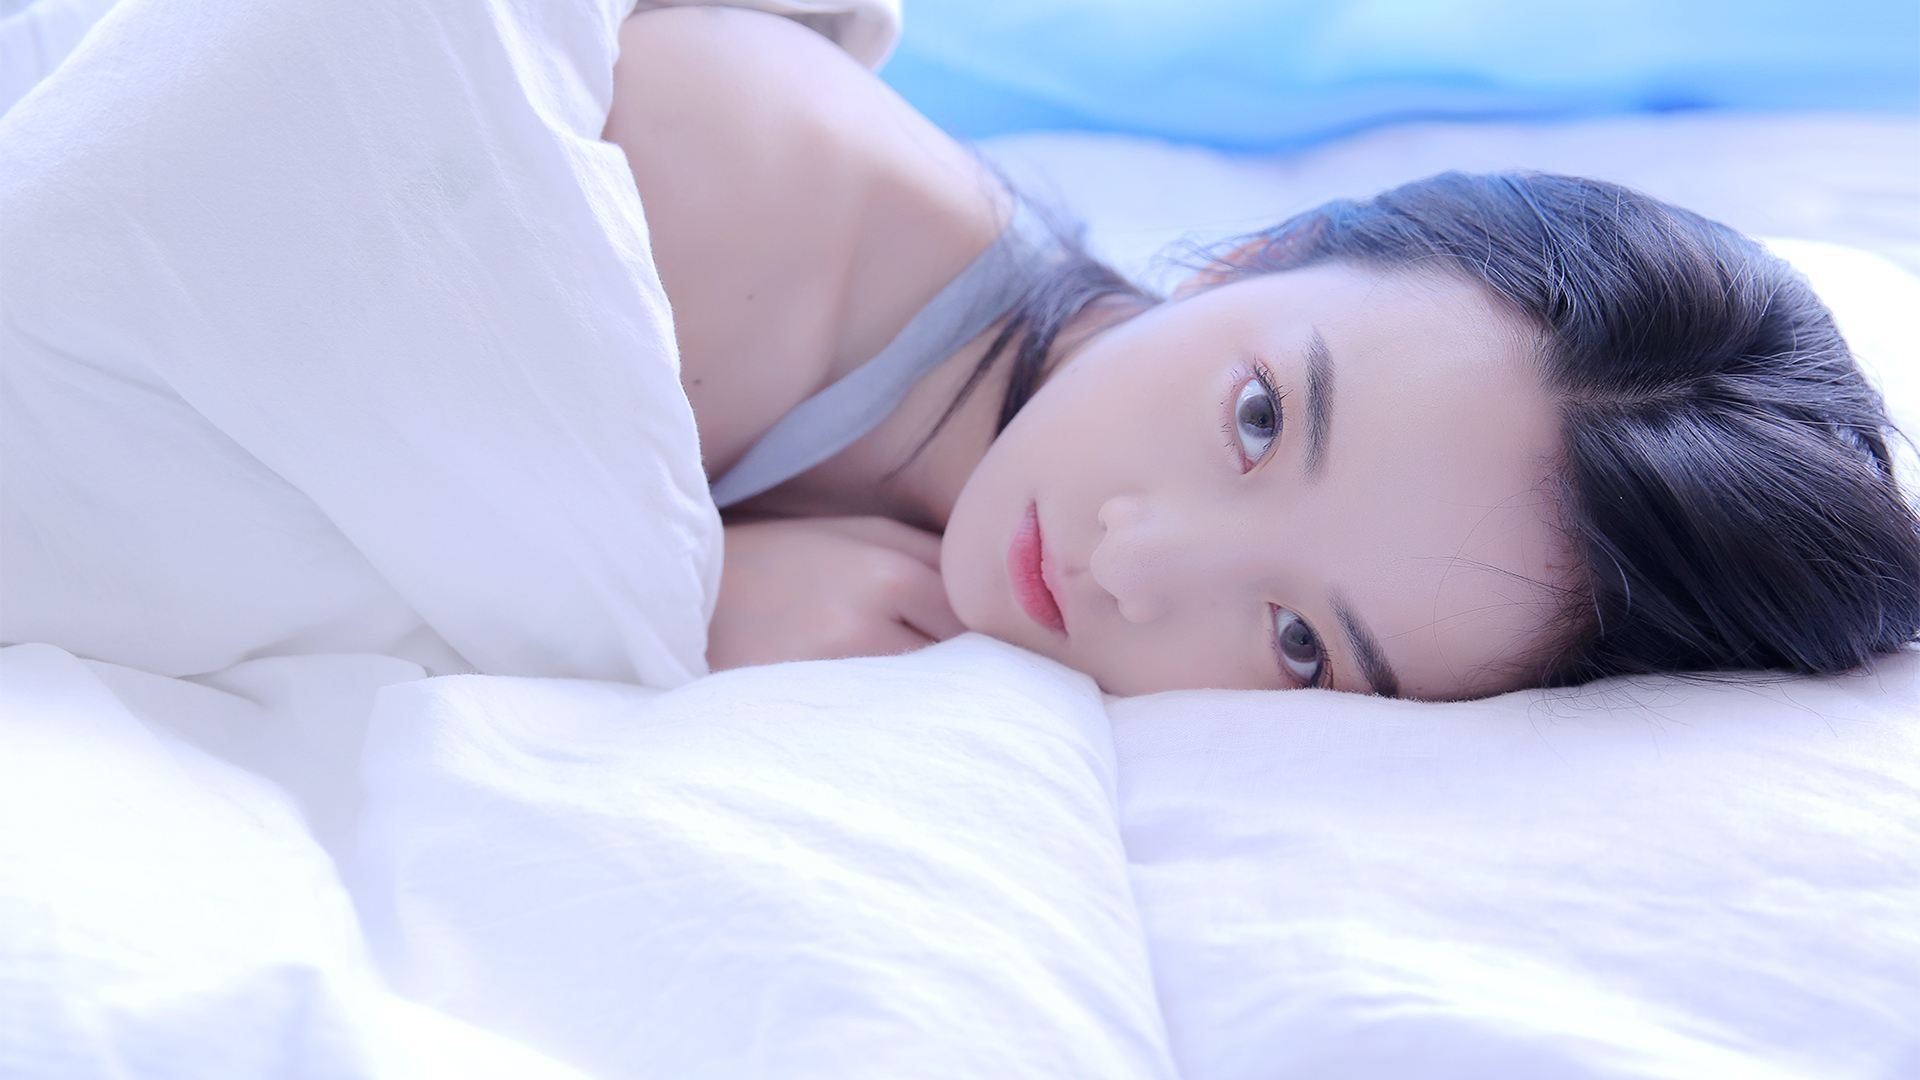person: (437, 25, 1888, 762)
